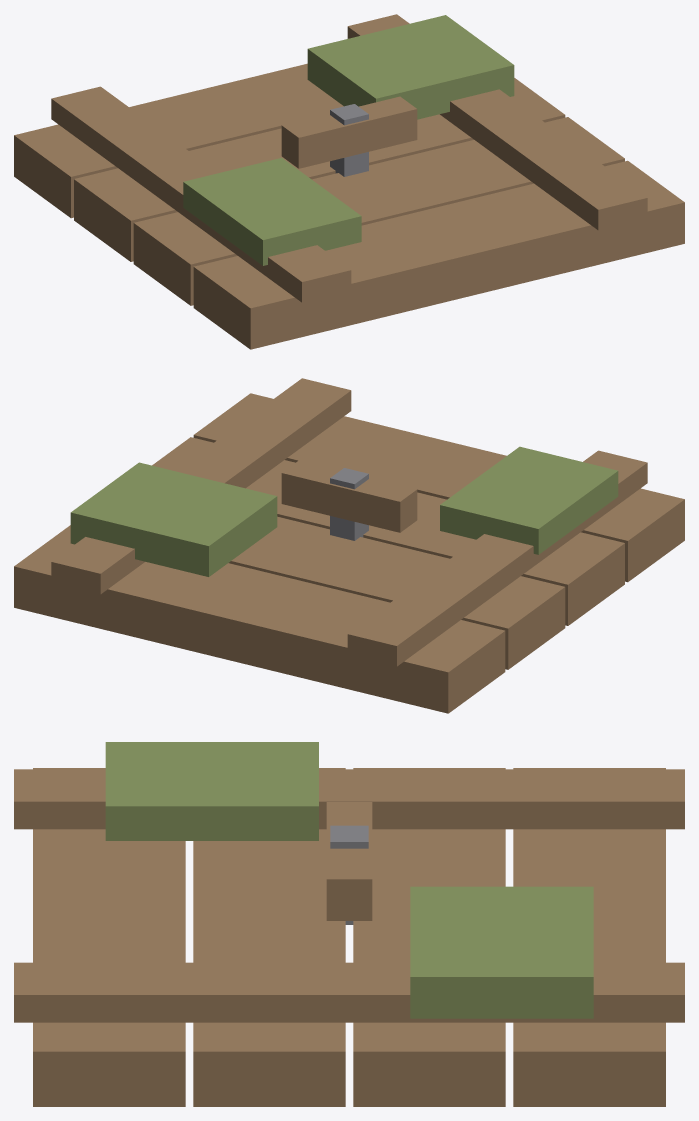
Rendered from prop-kiln-vent-cover.fbx.
The picture shows the model from 3 angles, top to bottom: view 1: azimuth 30°, elevation 25°; view 2: azimuth 150°, elevation 25°; view 3: azimuth 270°, elevation 25°; orthographic projection. The views are drawn at different scales.
Visible parts, largest first — view 1: prop-kiln-vent-cover; view 2: prop-kiln-vent-cover; view 3: prop-kiln-vent-cover.
Part boxes in pixels (x1,y1,x2,y2): prop-kiln-vent-cover: [14, 14, 684, 349]; prop-kiln-vent-cover: [14, 378, 684, 713]; prop-kiln-vent-cover: [14, 742, 684, 1106].
Bounding box in the file's own units: 44 × 9.5 × 44.
